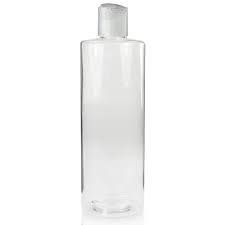available: (75, 1, 154, 223)
